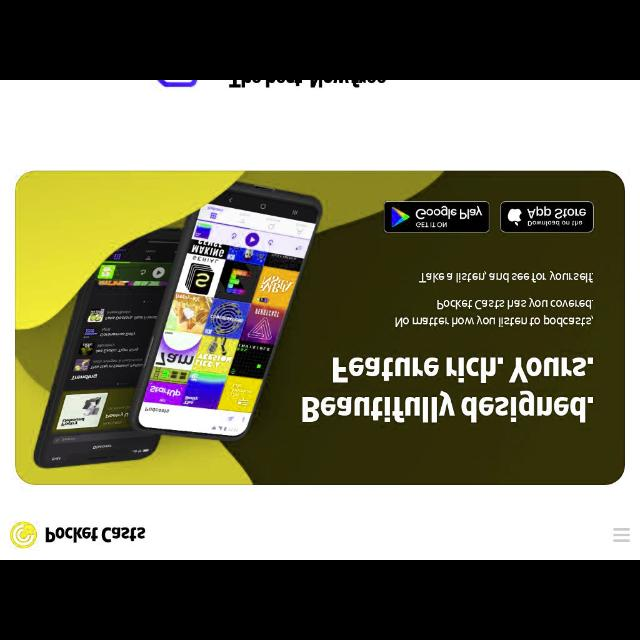backgroundimage: (16, 172, 624, 484)
icon: (612, 525, 630, 543)
image: (12, 522, 36, 548), (391, 206, 409, 228), (506, 206, 522, 227)
text: (302, 354, 594, 424), (394, 296, 594, 328), (420, 271, 594, 283), (46, 525, 146, 543), (417, 206, 483, 228), (527, 206, 587, 226)
textbutton: (384, 200, 490, 232), (501, 202, 593, 232)
